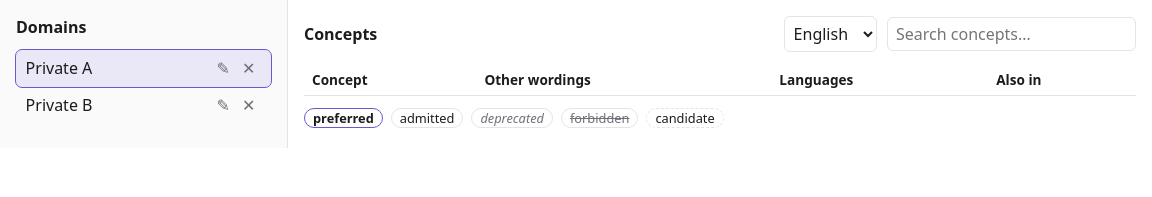
Test: TerminologyView concepts fetch: latest-request-wins on domain switch › clears rows immediately on switch and discards an out-of-order stale fetch from the previous domain
The width and height of the screenshot is (1152, 197).
Click the text "Private B" at point(59, 105), box [26,94,92,116]
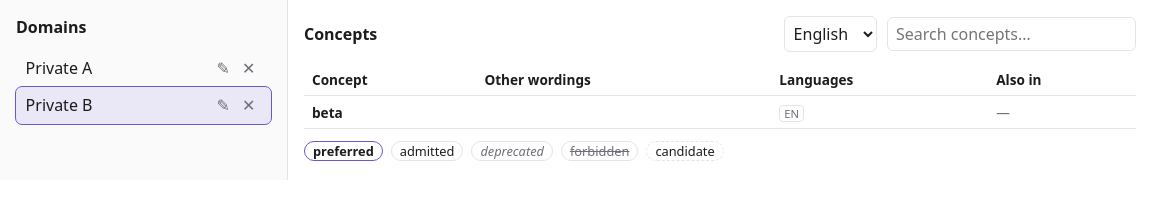
expect the button "beta" is shown: met, box [312,103,343,122]
